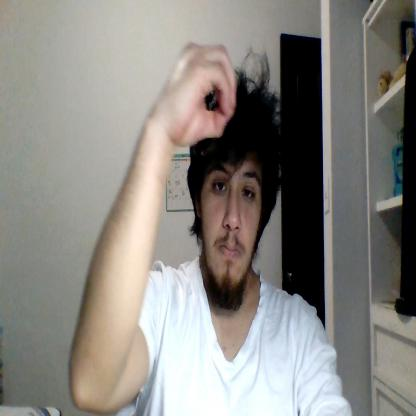O: (164, 42, 236, 146)
